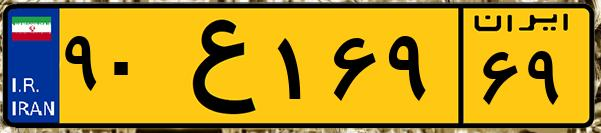0: (110, 28, 158, 98)
1: (270, 28, 330, 110)
6: (330, 28, 385, 110), (475, 38, 525, 113)
9: (385, 28, 445, 110), (57, 26, 110, 100), (525, 38, 570, 115)
ع: (158, 12, 270, 120)
